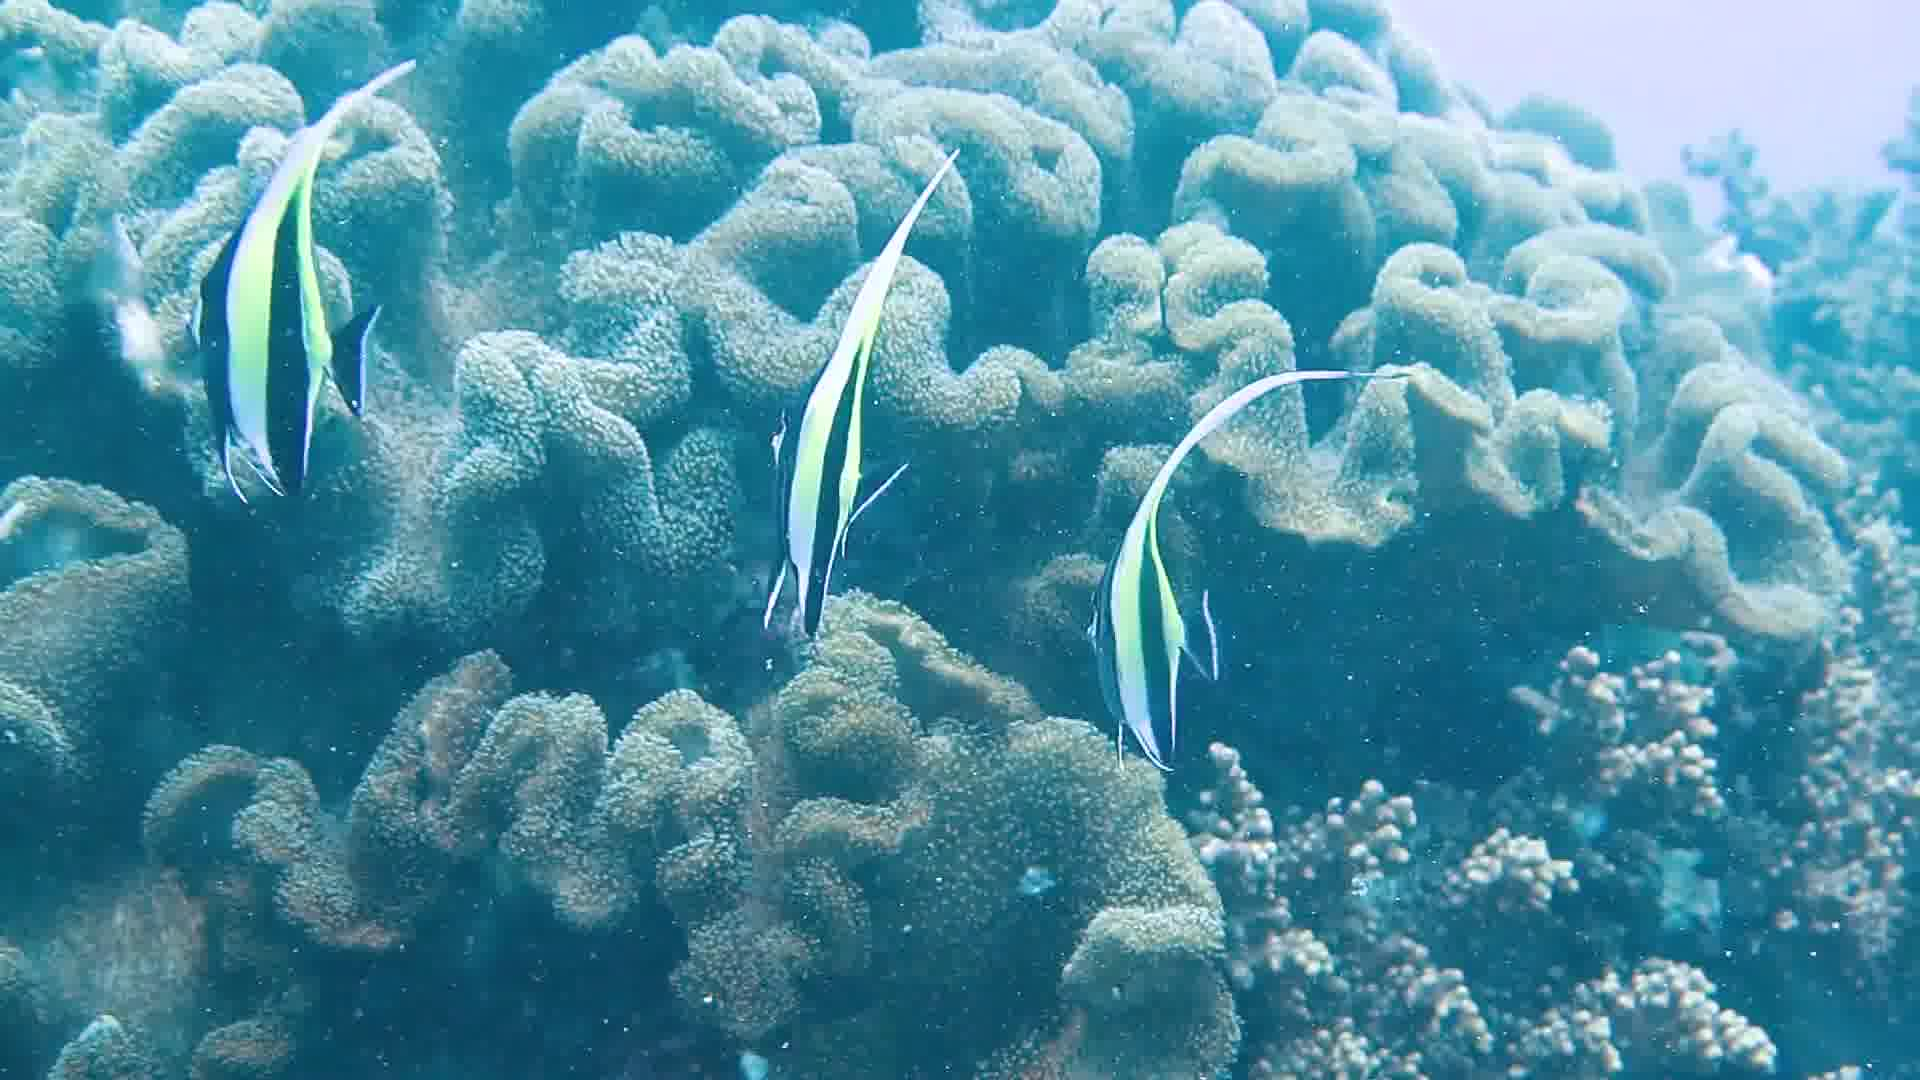Zanclus cornutus: (719, 309, 969, 638), (174, 170, 425, 500), (1029, 469, 1278, 800)
